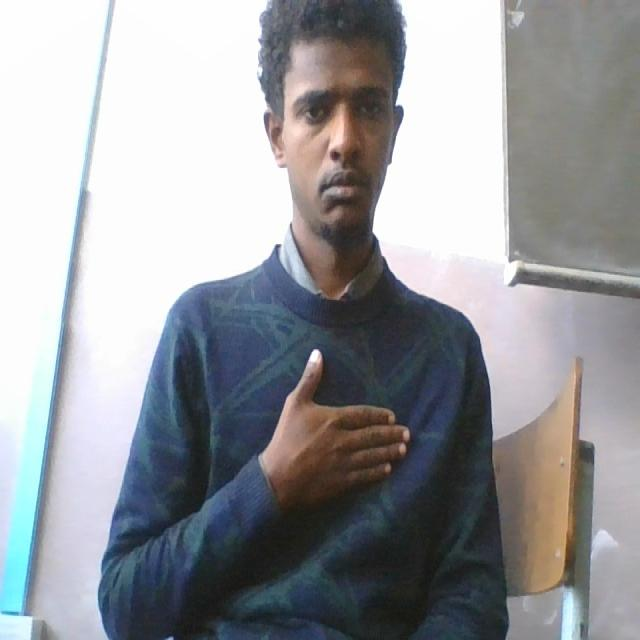yene: (257, 341, 417, 514)
